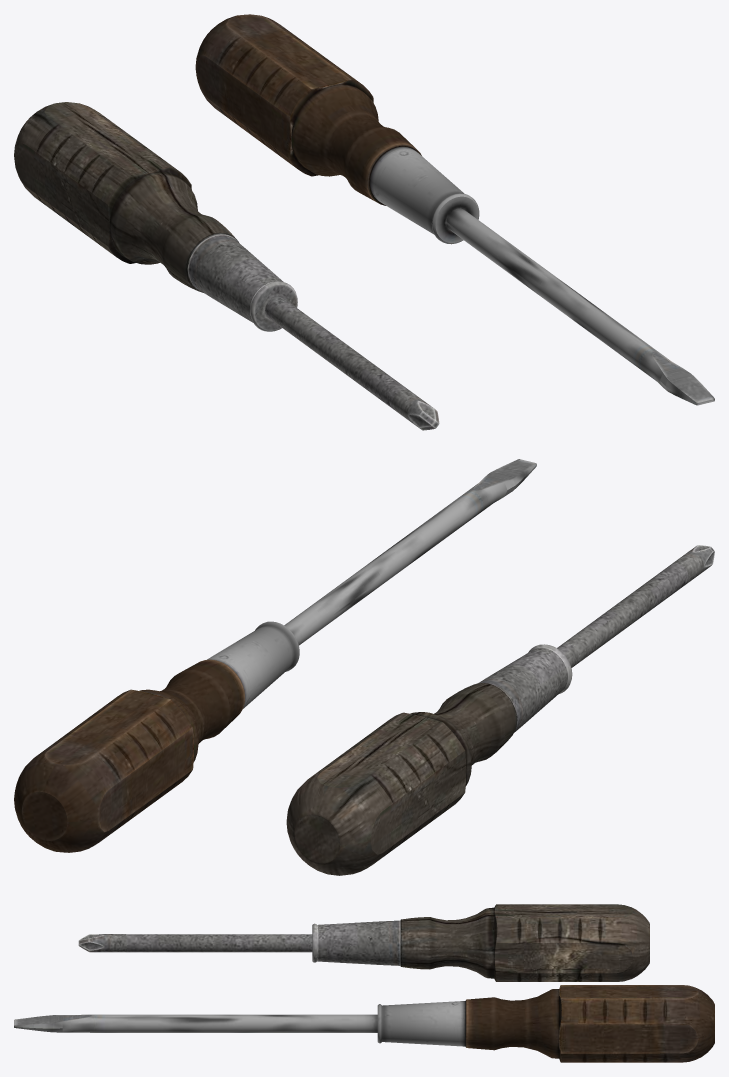
The picture shows the model from 3 angles, top to bottom: view 1: azimuth 30°, elevation 25°; view 2: azimuth 150°, elevation 25°; view 3: azimuth 270°, elevation 25°; orthographic projection. The views are drawn at different scales.
Visible parts, largest first — view 1: screwdrivers_02_a, screwdrivers_02_b; view 2: screwdrivers_02_a, screwdrivers_02_b; view 3: screwdrivers_02_a, screwdrivers_02_b.
Part boxes in pixels (x1,y1,x2,y2): screwdrivers_02_a: (195, 14, 714, 405); screwdrivers_02_b: (14, 102, 439, 430); screwdrivers_02_a: (14, 459, 536, 852); screwdrivers_02_b: (286, 545, 714, 875); screwdrivers_02_a: (14, 985, 714, 1062); screwdrivers_02_b: (78, 904, 649, 981).
Size of the model in its own units: 0.1005 by 0.0271 by 0.2699.
Materials: 1 (1 with a texture image).
